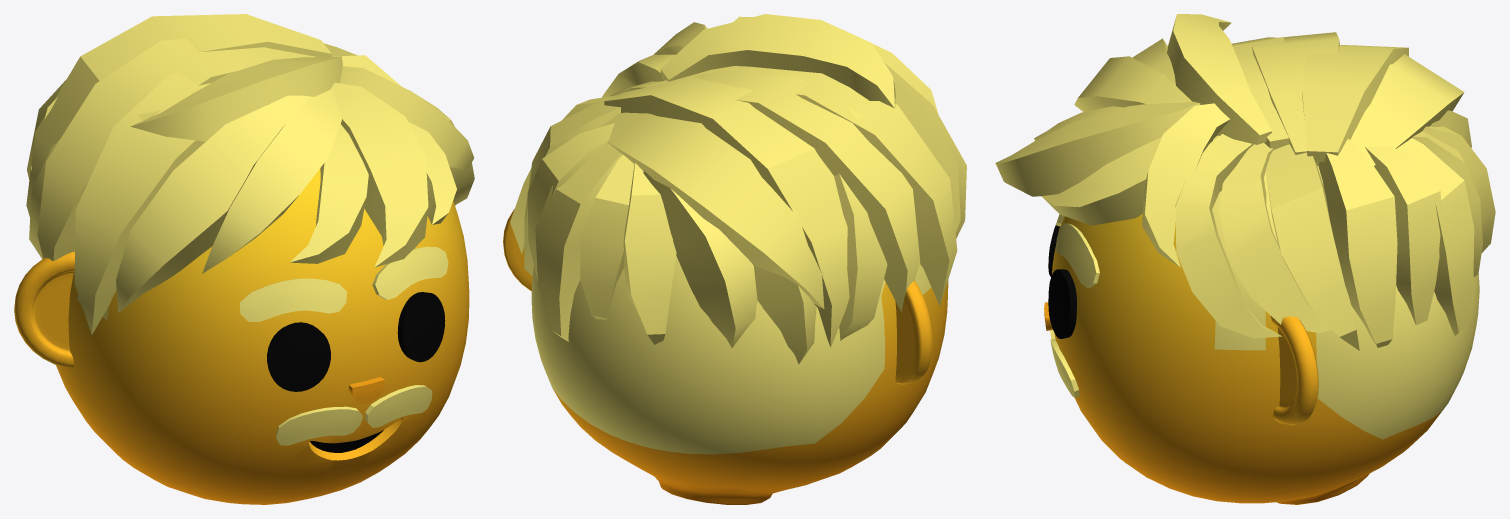
Rendered from man__blond_hair.glb.
3 renders of one model, left to right at view 1: azimuth 30°, elevation 25°; view 2: azimuth 150°, elevation 25°; view 3: azimuth 270°, elevation 25°, orthographic. The views are drawn at different scales.
Parts seen in each view (by area): view 1: Cube.389, Roundcube.028, Circle.367, Circle.369, ears.024, Circle.370, Circle.368; view 2: Cube.389, Roundcube.028, ears.024; view 3: Cube.389, Roundcube.028, ears.024, Circle.367, Circle.369, Circle.370.
Part boxes in pixels (box(x1,y1,x2,y2)): Cube.389: box(26, 14, 474, 334); Roundcube.028: box(56, 168, 469, 504); Circle.367: box(267, 292, 445, 391); Circle.369: box(240, 246, 448, 321); ears.024: box(14, 205, 455, 368); Circle.370: box(275, 385, 432, 445); Circle.368: box(349, 377, 385, 403); Cube.389: box(510, 14, 966, 364); Roundcube.028: box(531, 256, 948, 504); ears.024: box(503, 209, 932, 384); Cube.389: box(995, 14, 1495, 350); Roundcube.028: box(1052, 135, 1479, 504); ears.024: box(1271, 316, 1318, 425); Circle.367: box(1048, 225, 1076, 338); Circle.369: box(1055, 214, 1099, 287); Circle.370: box(1050, 330, 1079, 397).
Size of the model in its own units: 1.76 by 1.73 by 1.77.
1 material, 1 textured.
